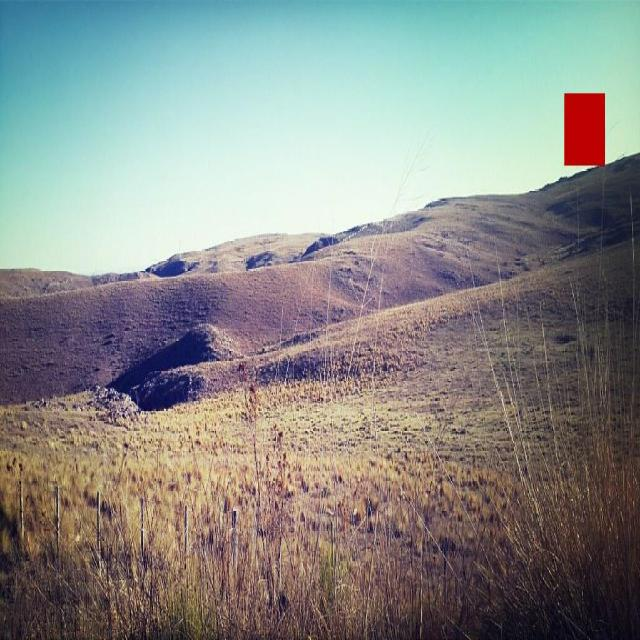RedSquare: (559, 84, 615, 183)
